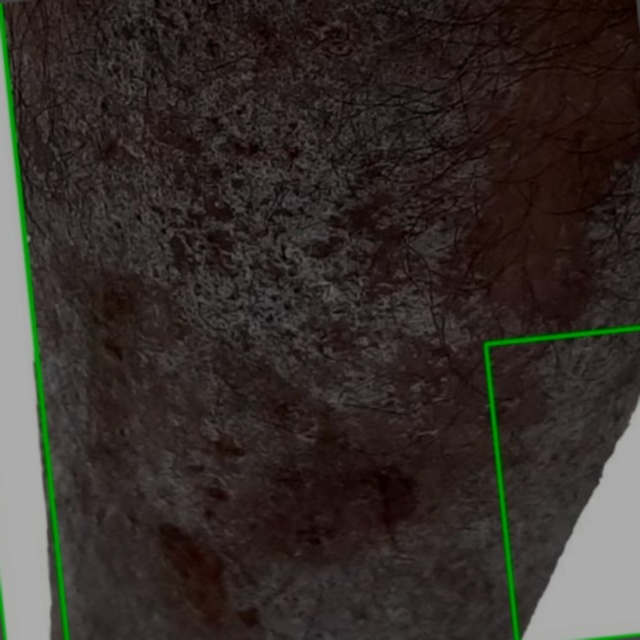Contact Dermatitis: (485, 327, 639, 639)
